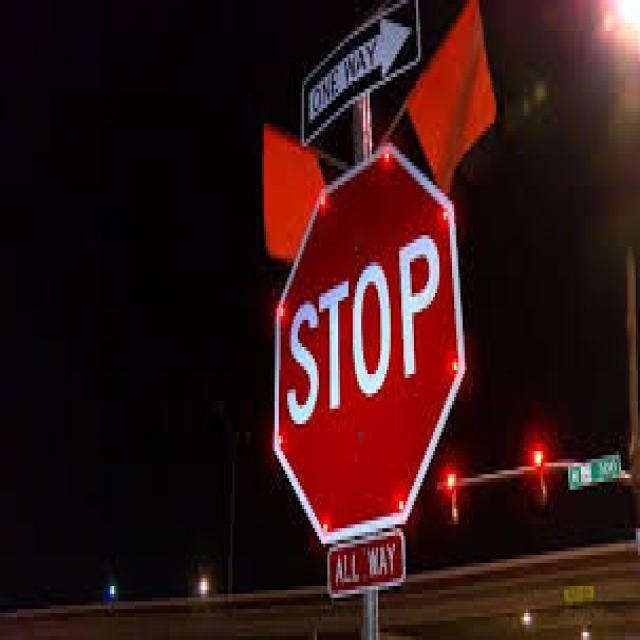stop-sign: (276, 203, 475, 503)
